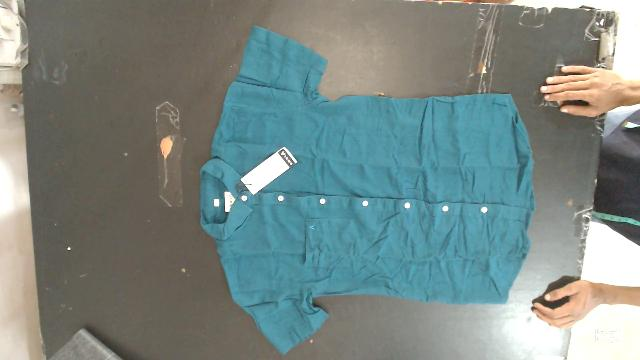new-garment: (200, 26, 535, 353)
